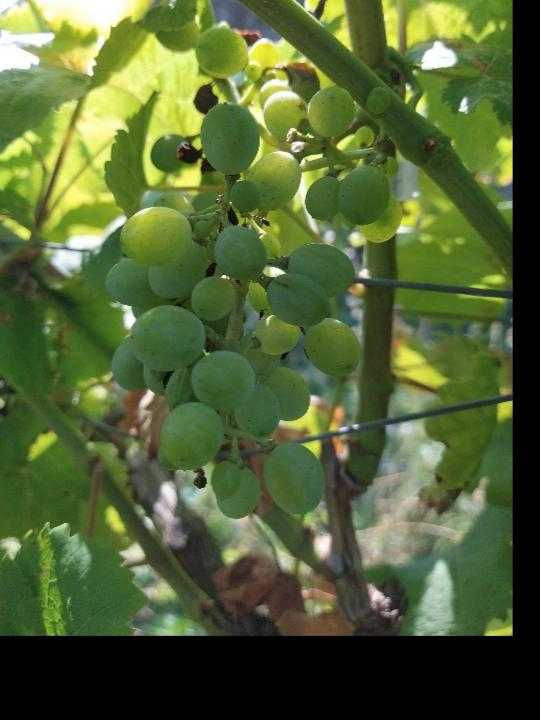grape: (105, 15, 403, 520)
